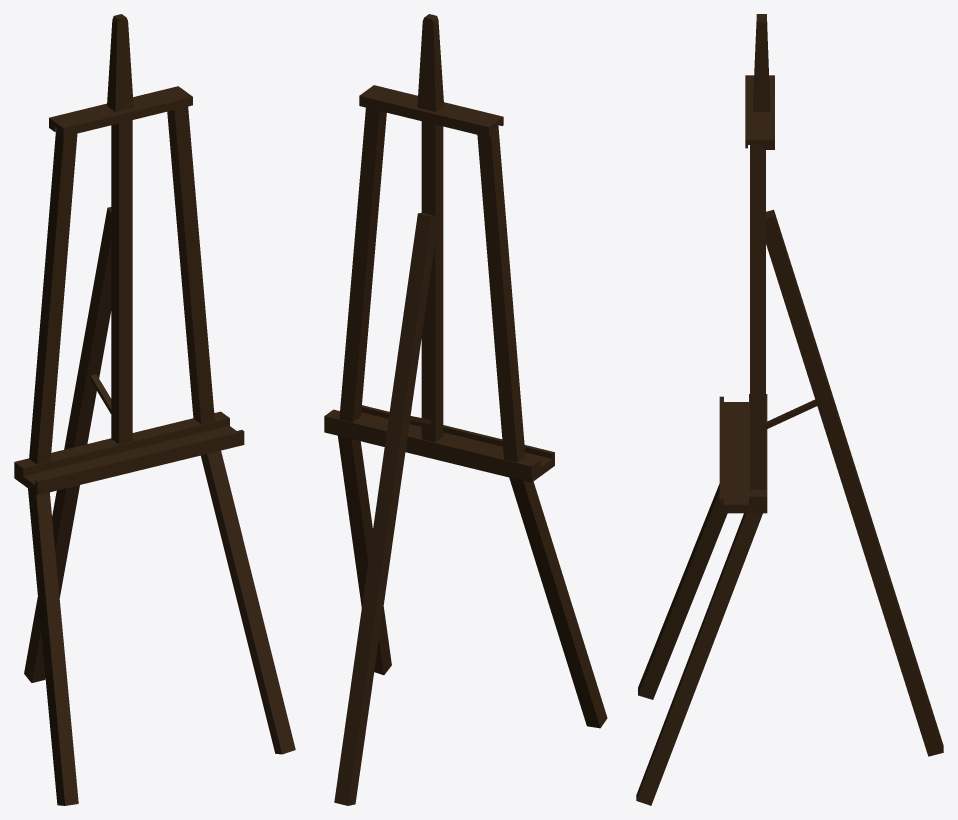
File: canvas_easel.fbx
3 views of the same model, side by side, from view 1: azimuth 30°, elevation 25°; view 2: azimuth 150°, elevation 25°; view 3: azimuth 270°, elevation 25° (orthographic).
Parts seen in each view (by area): view 1: Cube.003, Cube.002, Cube.005, Cube, Cube.006, Cube.001, Cube.007, Cube.004; view 2: Cube.005, Cube.002, Cube.001, Cube, Cube.003, Cube.006, Cube.004, Cube.007; view 3: Cube.005, Cube.007, Cube.001, Cube.003, Cube.006, Cube.004.
Part boxes in pixels (x1,y1,x2,y2): Cube.003: (14,411,244,495); Cube.002: (29,129,77,464); Cube.005: (24,207,113,682); Cube: (111,120,132,444); Cube.006: (28,488,78,805); Cube.001: (167,106,214,424); Cube.007: (201,450,295,754); Cube.004: (49,14,192,136); Cube.005: (334,212,438,805); Cube.002: (477,126,525,462); Cube.001: (339,107,386,422); Cube: (421,121,443,442); Cube.003: (324,405,554,482); Cube.006: (509,477,607,728); Cube.004: (359,14,503,137); Cube.007: (338,436,391,675); Cube.005: (766,209,943,756); Cube.007: (636,513,762,805); Cube.001: (750,145,765,489); Cube.003: (719,394,767,513); Cube.006: (638,484,727,699); Cube.004: (745,14,774,149).
Bounding box in the file's own units: 336 × 1011 × 382.
